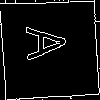A: (25, 24, 78, 62)
